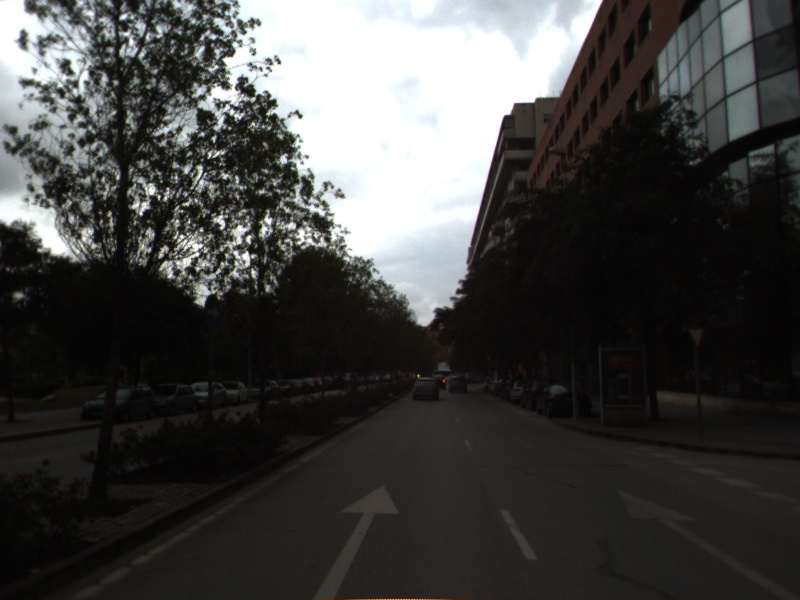STRAIGHT: (615, 486, 800, 600), (311, 481, 404, 600)
